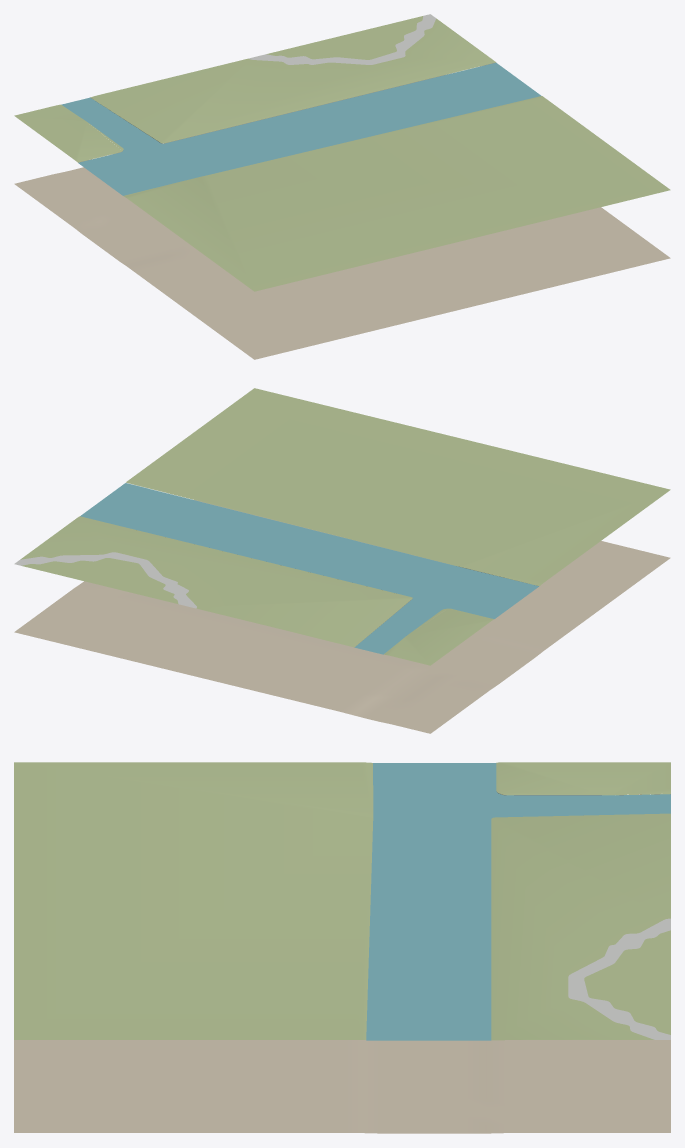
3 renders of one model, top to bottom at view 1: azimuth 30°, elevation 25°; view 2: azimuth 150°, elevation 25°; view 3: azimuth 270°, elevation 25°, orthographic. The views are drawn at different scales.
Parts seen in each view (by area): view 1: s_-8_6__grass, s_-8_6__soil, s_-8_6__water, s_-8_6__stone_paving; view 2: s_-8_6__grass, s_-8_6__soil, s_-8_6__water, s_-8_6__stone_paving; view 3: s_-8_6__grass, s_-8_6__soil, s_-8_6__water, s_-8_6__stone_paving.
Part boxes in pixels (x1=…): s_-8_6__grass: x1=14, y1=16, x2=670, y2=291; s_-8_6__soil: x1=14, y1=167, x2=670, y2=359; s_-8_6__water: x1=61, y1=62, x2=541, y2=195; s_-8_6__stone_paving: x1=249, y1=14, x2=436, y2=64; s_-8_6__grass: x1=20, y1=388, x2=670, y2=665; s_-8_6__soil: x1=14, y1=500, x2=670, y2=733; s_-8_6__water: x1=80, y1=483, x2=538, y2=654; s_-8_6__stone_paving: x1=14, y1=552, x2=196, y2=608; s_-8_6__grass: x1=14, y1=762, x2=670, y2=1040; s_-8_6__soil: x1=14, y1=1031, x2=670, y2=1133; s_-8_6__water: x1=366, y1=763, x2=670, y2=1040; s_-8_6__stone_paving: x1=568, y1=918, x2=670, y2=1039.
Size of the model in its own units: 128 by 20.14 by 128.
